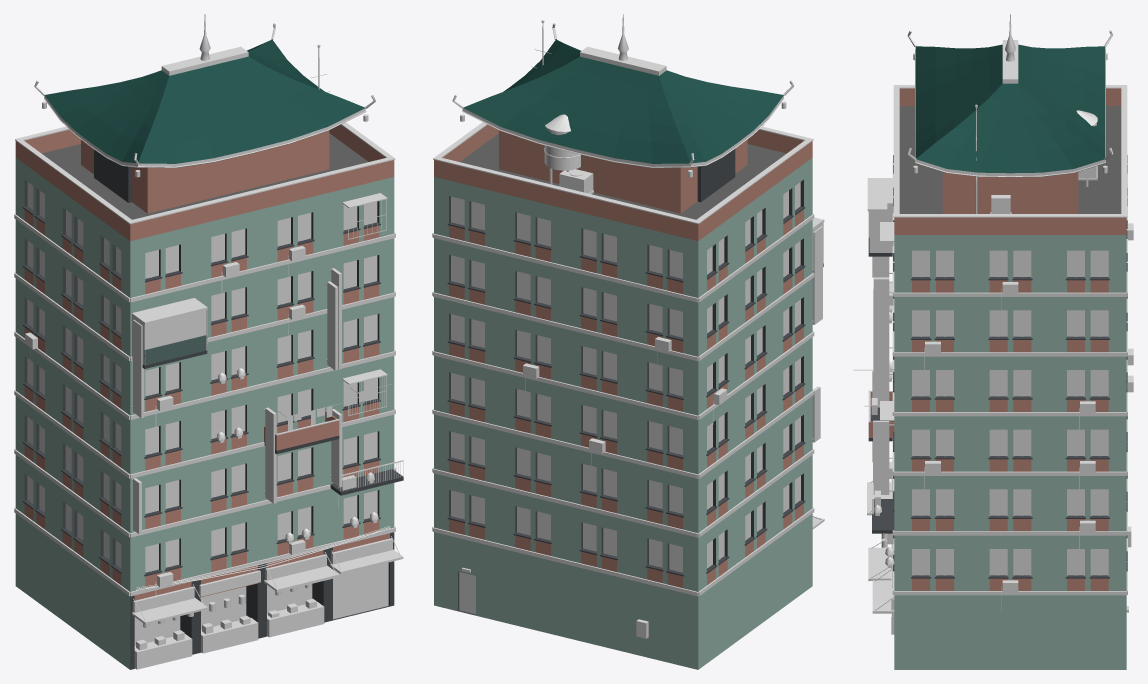
The model's file is LB_NM_Shophouse_B.fbx.
3 renders of one model, left to right at view 1: azimuth 30°, elevation 25°; view 2: azimuth 150°, elevation 25°; view 3: azimuth 270°, elevation 25°, orthographic.
Parts seen in each view (by area): view 1: LB_NM_Shophouse_B_LOD0; view 2: LB_NM_Shophouse_B_LOD0; view 3: LB_NM_Shophouse_B_LOD0.
Part boxes in pixels (x1,y1,x2,y2): LB_NM_Shophouse_B_LOD0: [14, 14, 403, 669]; LB_NM_Shophouse_B_LOD0: [432, 14, 824, 669]; LB_NM_Shophouse_B_LOD0: [853, 14, 1133, 669].
Size of what is drawn, in the model's own units: 16.73 by 33.65 by 14.48.
